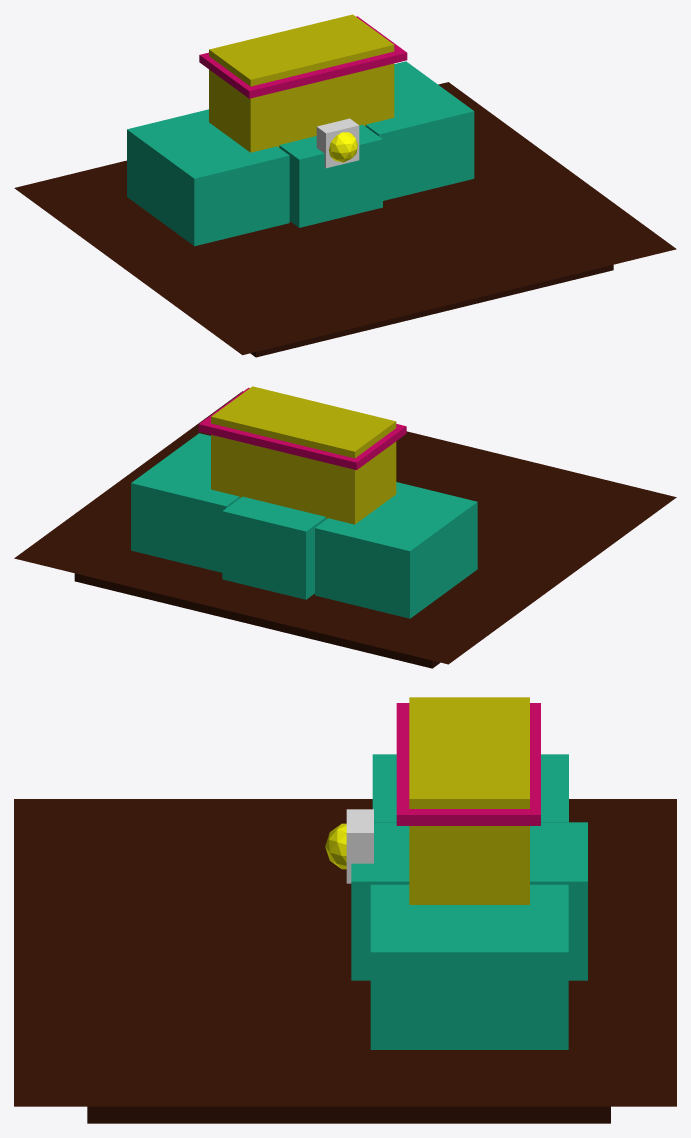
Rendered from PoliceStation.fbx.
The picture shows the model from 3 angles, top to bottom: view 1: azimuth 30°, elevation 25°; view 2: azimuth 150°, elevation 25°; view 3: azimuth 270°, elevation 25°; orthographic projection. The views are drawn at different scales.
Visible parts, largest first — view 1: Plane, Cube.004, Cube.005, Cube.002, Cube.003, Cube.006, Cube, Cube.001, Icosphere; view 2: Plane, Cube.004, Cube.005, Cube.002, Cube.003, Cube, Cube.006; view 3: Plane, Cube.002, Cube.004, Cube.003, Cube, Cube.006, Cube.005, Cube.001, Icosphere.
Part boxes in pixels (box(x1,y1,x2,y2)): Plane: box(14, 82, 676, 355); Cube.004: box(209, 14, 394, 152); Cube.005: box(127, 109, 289, 246); Cube.002: box(365, 61, 474, 200); Cube.003: box(279, 124, 382, 227); Cube.006: box(199, 16, 407, 98); Cube: box(250, 264, 613, 357); Cube.001: box(316, 118, 359, 168); Icosphere: box(329, 132, 357, 162); Plane: box(14, 391, 676, 664); Cube.004: box(211, 386, 396, 524); Cube.005: box(315, 482, 477, 618); Cube.002: box(131, 433, 239, 572); Cube.003: box(222, 496, 326, 599); Cube: box(74, 573, 440, 668); Cube.006: box(198, 387, 406, 470); Plane: box(14, 799, 676, 1106); Cube.002: box(370, 884, 568, 1049); Cube.004: box(409, 697, 529, 904); Cube.003: box(351, 822, 587, 980); Cube: box(87, 1106, 610, 1123); Cube.006: box(396, 703, 540, 825); Cube.005: box(372, 754, 568, 822); Cube.001: box(346, 809, 373, 883); Icosphere: box(325, 823, 346, 869).
Bounding box in the file's own units: 605 × 227 × 551.
